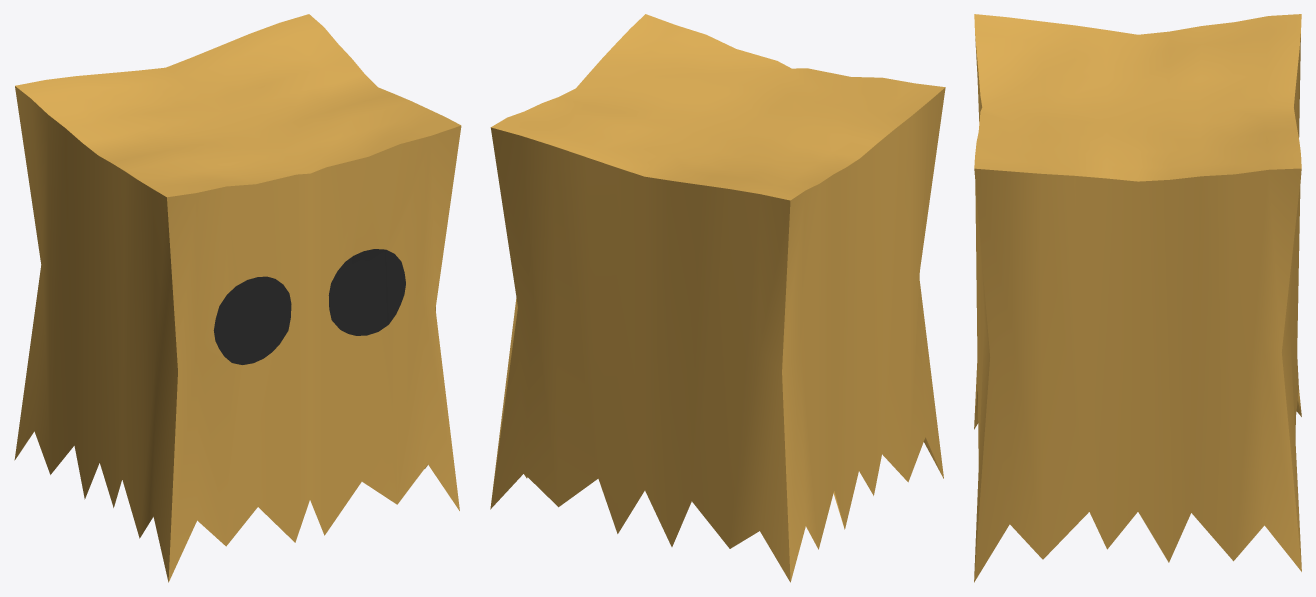
The model's file is PackageHat.fbx.
3 views of the same model, side by side, from view 1: azimuth 30°, elevation 25°; view 2: azimuth 150°, elevation 25°; view 3: azimuth 270°, elevation 25° (orthographic). The views are drawn at different scales.
Visible parts, largest first — view 1: package; view 2: package; view 3: package.
Boxes of the visible parts, x1,y1,x2,y2 form: package: (14,14,461,582); package: (490,14,945,582); package: (974,14,1301,582).
Bounding box in the file's own units: 0.5211 × 0.6521 × 0.4668.
